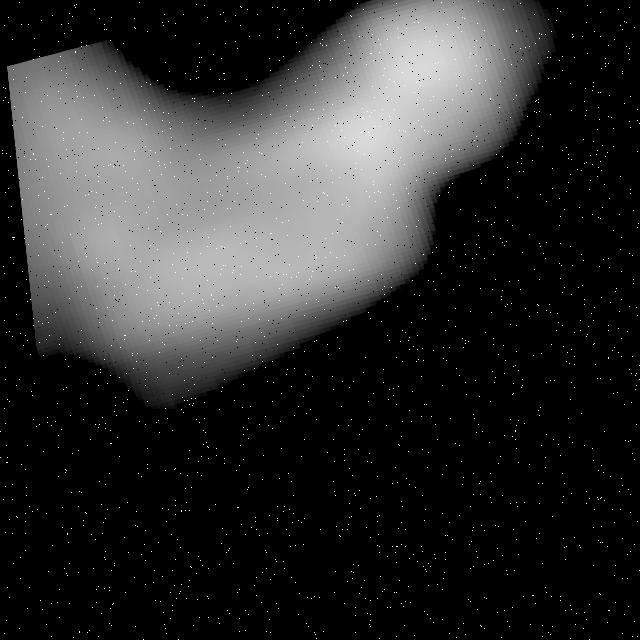person: (1, 1, 640, 439)
